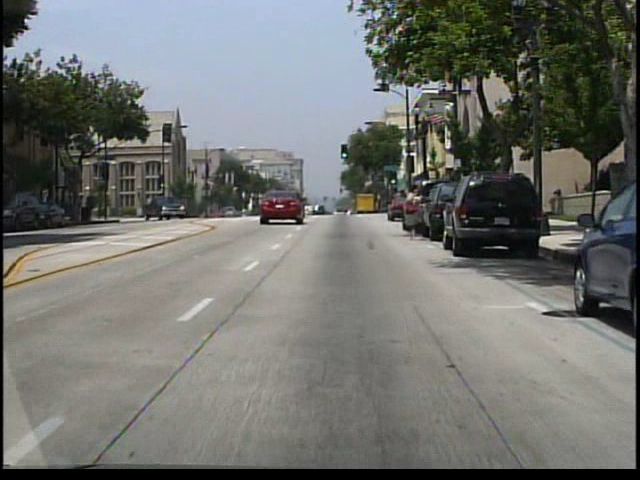person: (403, 182, 431, 242)
